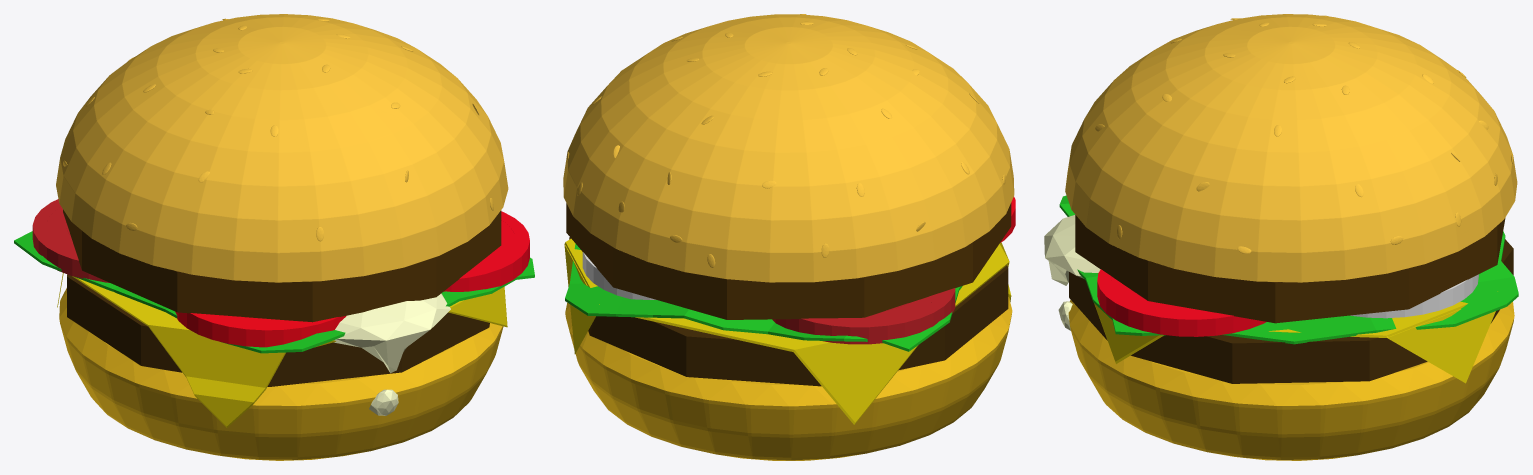
Rendered from burger.fbx.
3 views of the same model, side by side, from view 1: azimuth 30°, elevation 25°; view 2: azimuth 150°, elevation 25°; view 3: azimuth 270°, elevation 25° (orthographic).
Visible parts, largest first — view 1: Sphere, Sphere.001, Cylinder.001, Cylinder, Cube, Icosphere, Cylinder.002, Cylinder.004, Plane.001, Cylinder.003; view 2: Sphere, Sphere.001, Cylinder.001, Cylinder, Cube, Plane.001, Cylinder.003, Cylinder.005; view 3: Sphere, Sphere.001, Cylinder.001, Cylinder, Plane.001, Cube, Cylinder.004, Icosphere, Cylinder.005.
Boxes of the visible parts, x1,y1,x2,y2 form: Sphere: (56,14,508,282); Sphere.001: (59,288,503,460); Cylinder.001: (63,209,501,322); Cylinder: (67,274,489,386); Cube: (57,273,507,427); Icosphere: (334,293,450,415); Cylinder.002: (175,311,346,347); Cylinder.004: (444,211,529,291); Plane.001: (14,231,534,353); Cylinder.003: (32,199,109,282); Sphere: (563,14,1014,282); Sphere.001: (565,297,1012,460); Cylinder.001: (566,203,1011,319); Cylinder: (569,237,1008,386); Cube: (564,238,1011,424); Plane.001: (565,243,962,351); Cylinder.003: (772,288,955,344); Cylinder.005: (582,252,655,299); Sphere: (1065,14,1517,282); Sphere.001: (1068,299,1514,460); Cylinder.001: (1075,215,1505,323); Cylinder: (1069,239,1513,383); Plane.001: (1059,195,1518,344); Cube: (1094,291,1497,383); Cylinder.004: (1097,269,1266,336); Icosphere: (1044,215,1100,330); Cylinder.005: (1350,274,1478,318).
Bounding box in the file's own units: 202 × 169 × 210.
